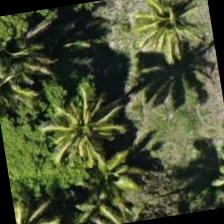Kelapa_Sawit: (22, 69, 124, 172), (61, 122, 165, 223), (119, 0, 219, 90)
